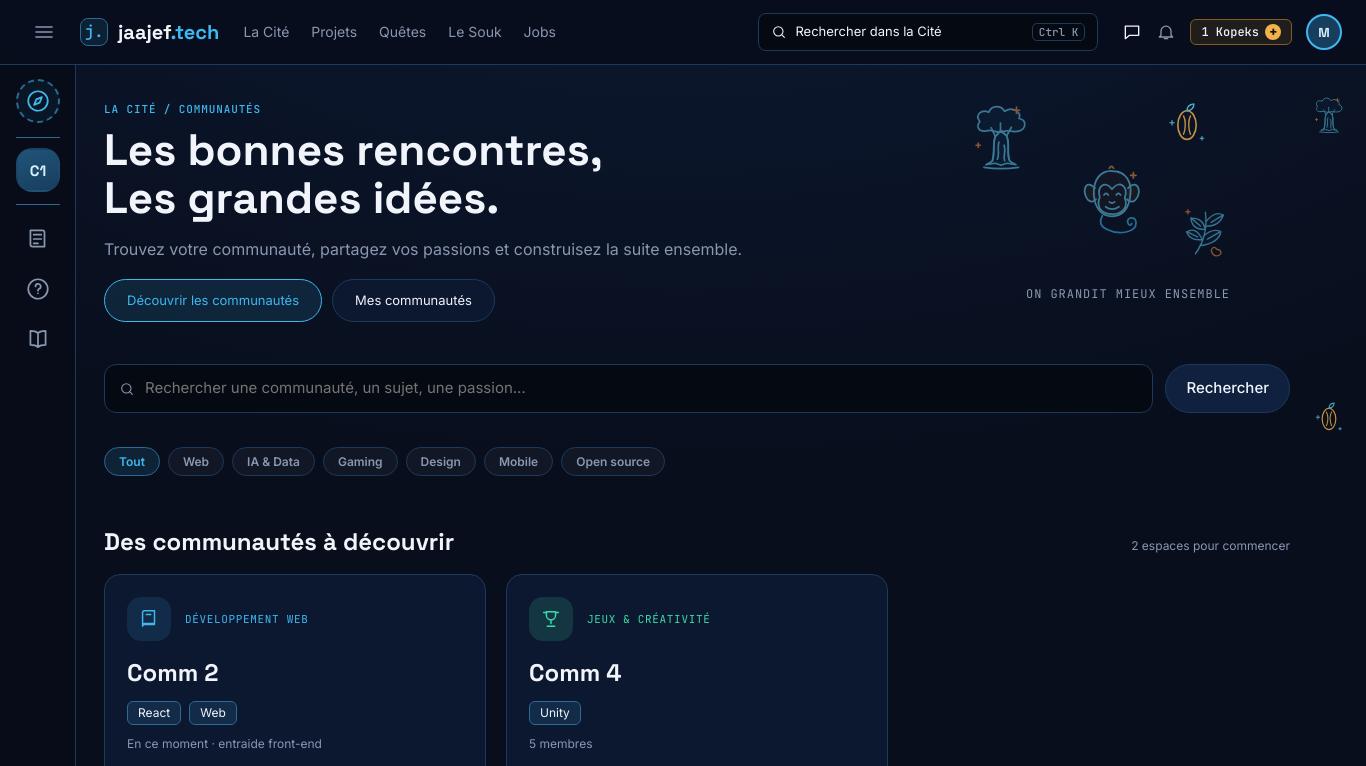
Test: Communities list › filters by topic, shows tags and the right-now line
The width and height of the screenshot is (1366, 766).
expect the heading "Comm 2" is shown: met, box [127,657,218,688]
expect the text "React" is shown: met, box [127,701,181,725]
What coordinates should you click on to do the following:
click the button "Gaming"
I would click on:
 (360, 461)
Its box is [323,447,398,476].
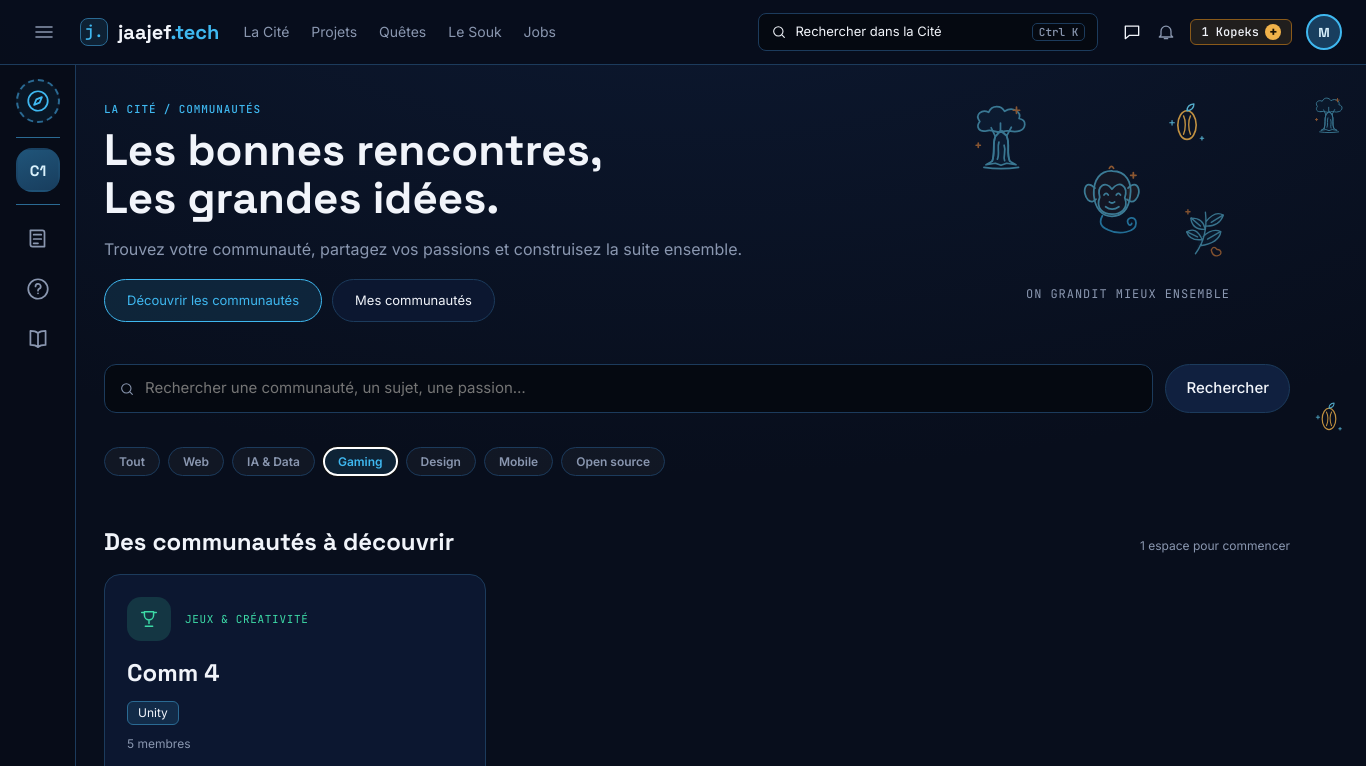
expect the heading "Comm 4" is shown: met, box [127,657,220,688]
expect the heading "Comm 2" is gone: met
